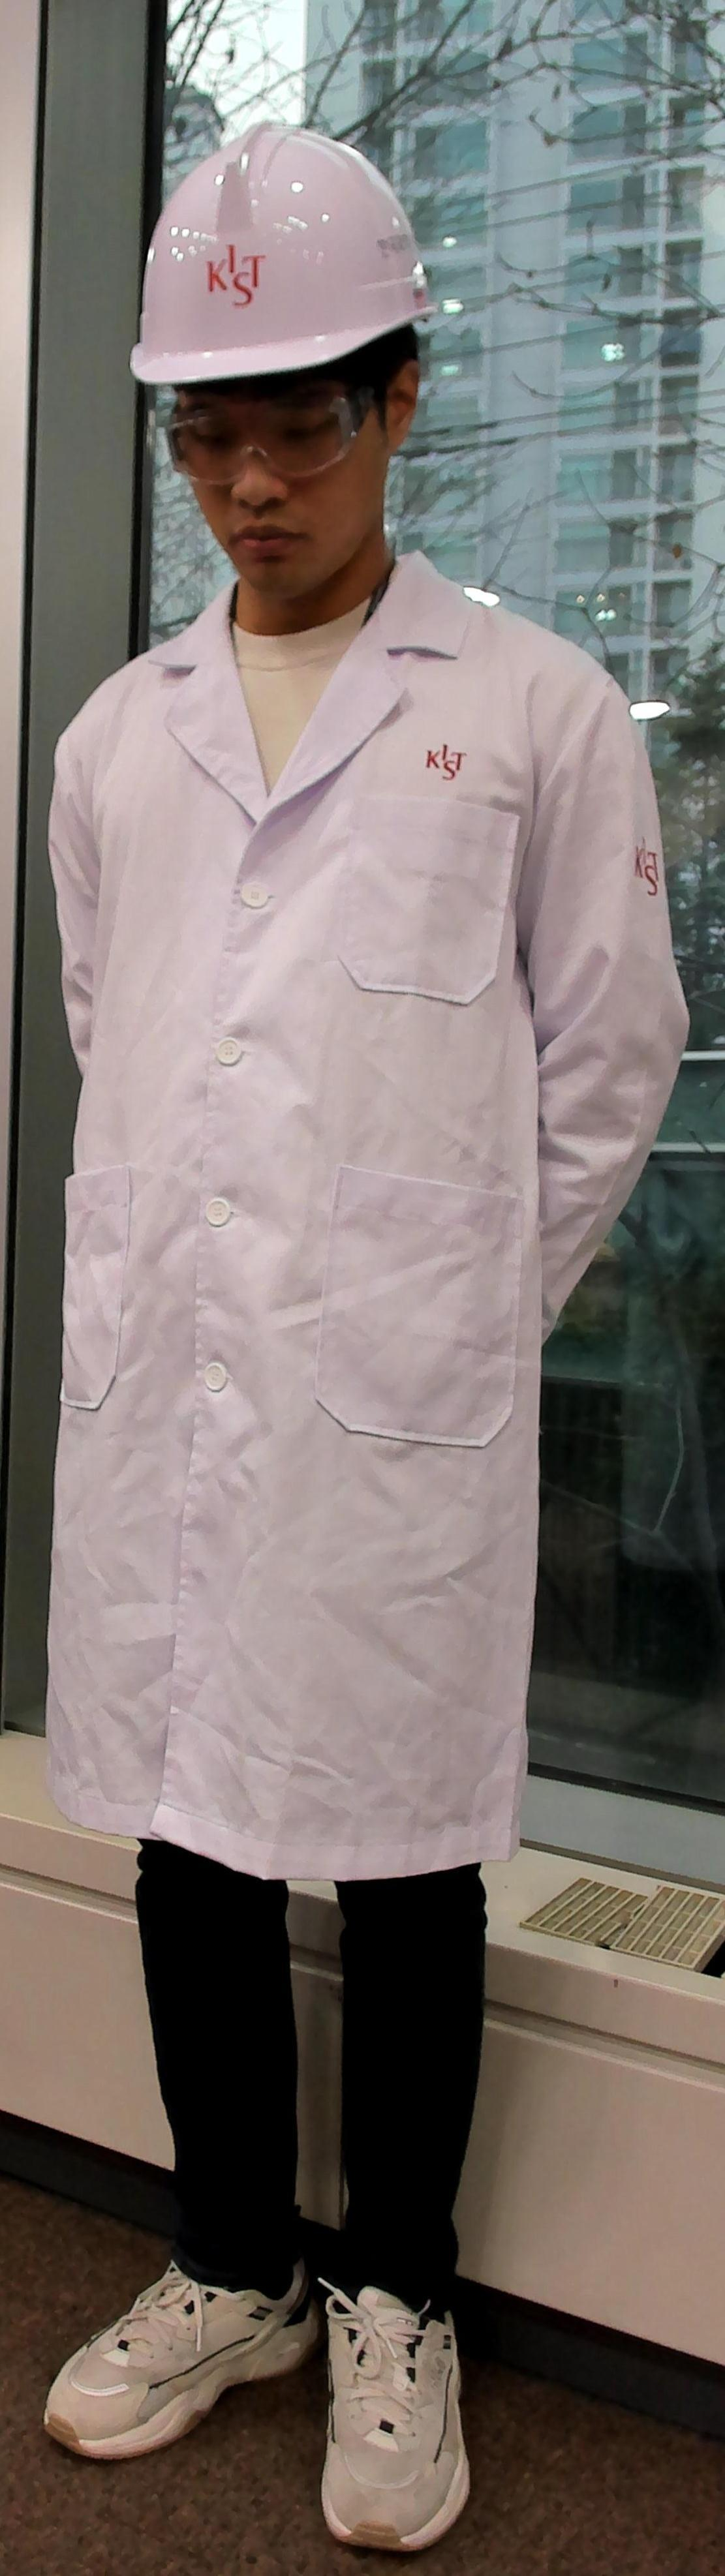lab_coat: (21, 660, 602, 1865)
